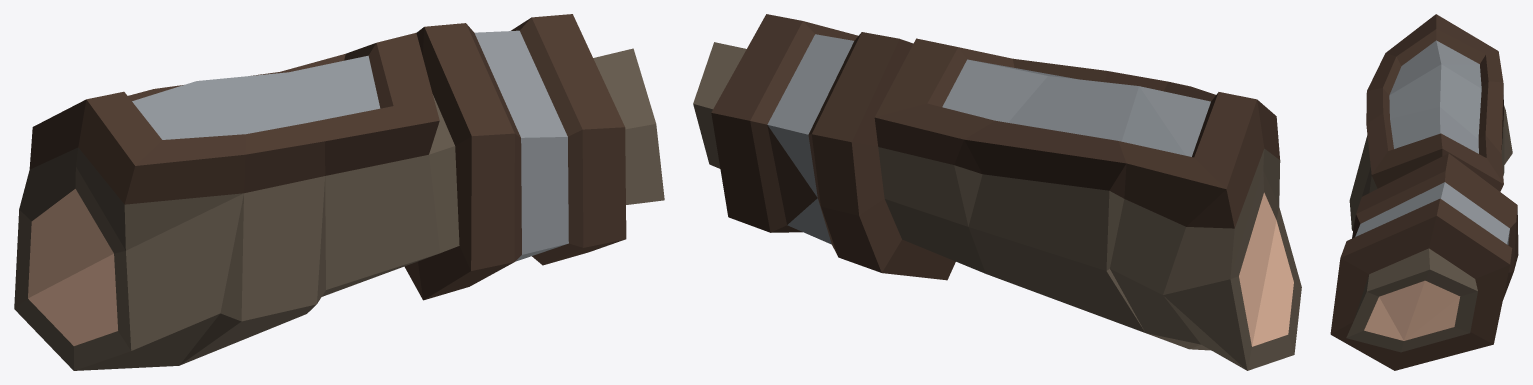
File: Chr_ArmLowerLeft_Female_10_Static.fbx
3 views of the same model, side by side, from view 1: azimuth 30°, elevation 25°; view 2: azimuth 150°, elevation 25°; view 3: azimuth 270°, elevation 25° (orthographic). The views are drawn at different scales.
Parts seen in each view (by area): view 1: Chr_ArmLowerLeft_Female_10_Static; view 2: Chr_ArmLowerLeft_Female_10_Static; view 3: Chr_ArmLowerLeft_Female_10_Static.
Boxes of the visible parts, x1,y1,x2,y2 form: Chr_ArmLowerLeft_Female_10_Static: (14,14,664,370); Chr_ArmLowerLeft_Female_10_Static: (693,14,1301,370); Chr_ArmLowerLeft_Female_10_Static: (1330,14,1518,370).
Bounding box in the file's own units: 0.2944 × 0.1356 × 0.1122.
